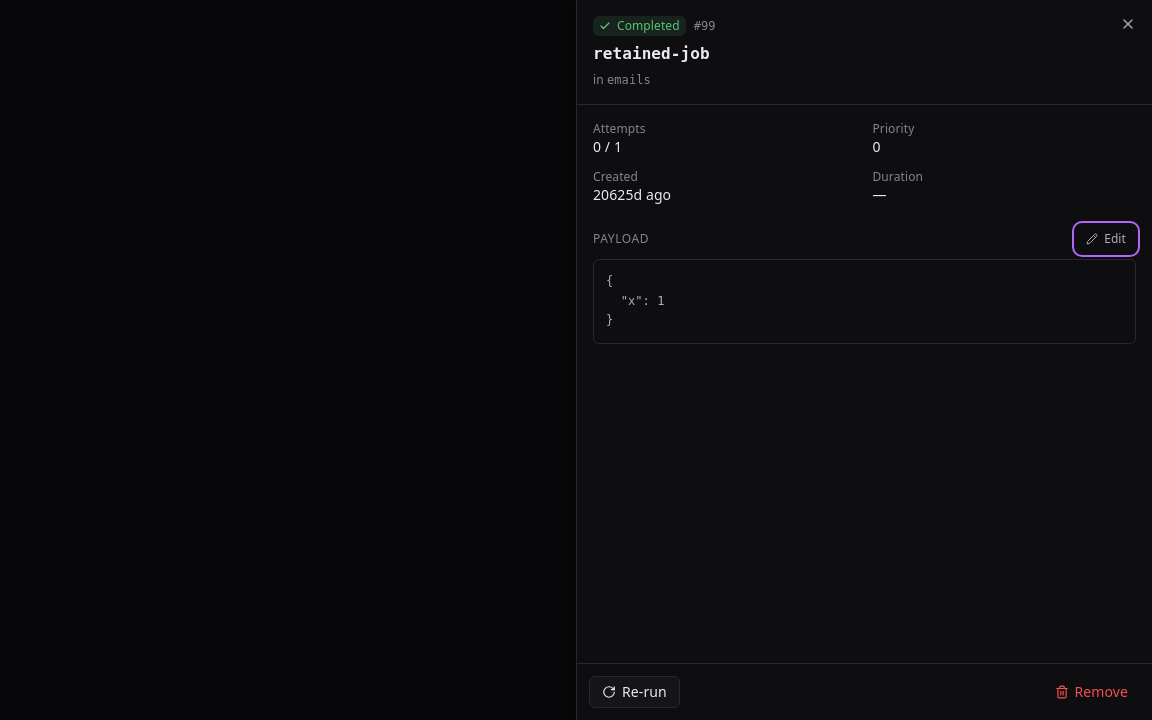
it: JobDrawer › editing a retained job (readOnly=false) › reveals a textarea when clicking Edit
Click the button "Edit" at (1106, 239), box x1=1076 y1=225 x2=1136 y2=253
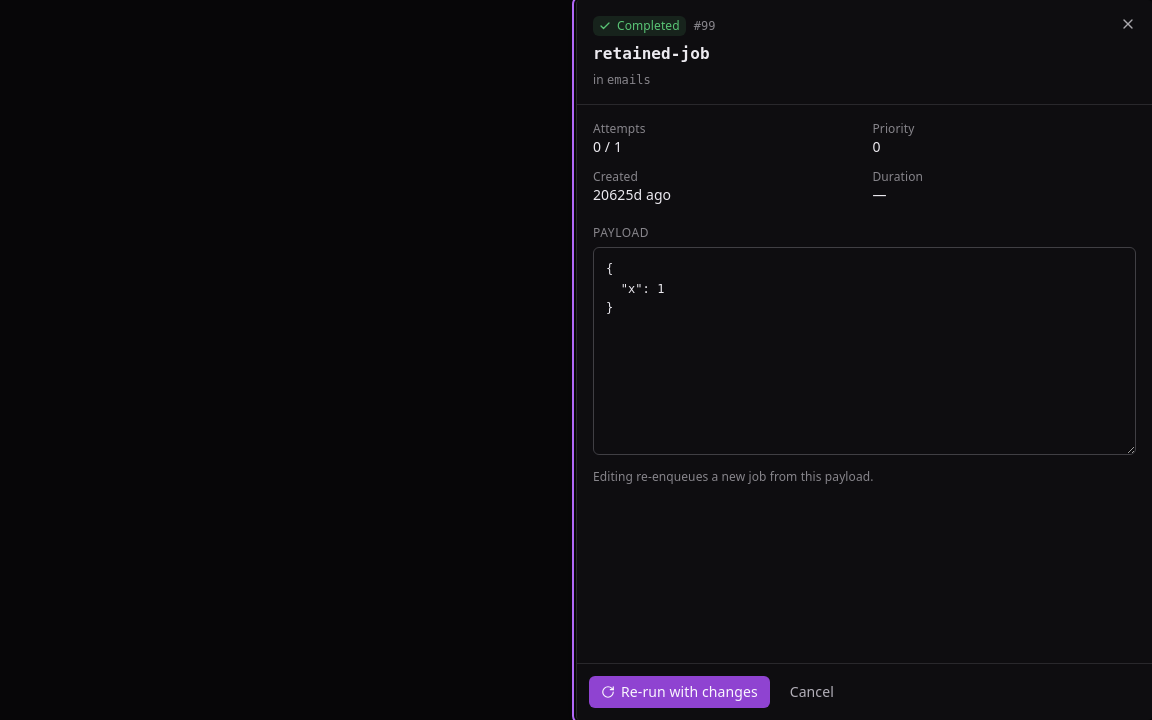
Expected: the text box is shown, x1=593 y1=247 x2=1136 y2=455
